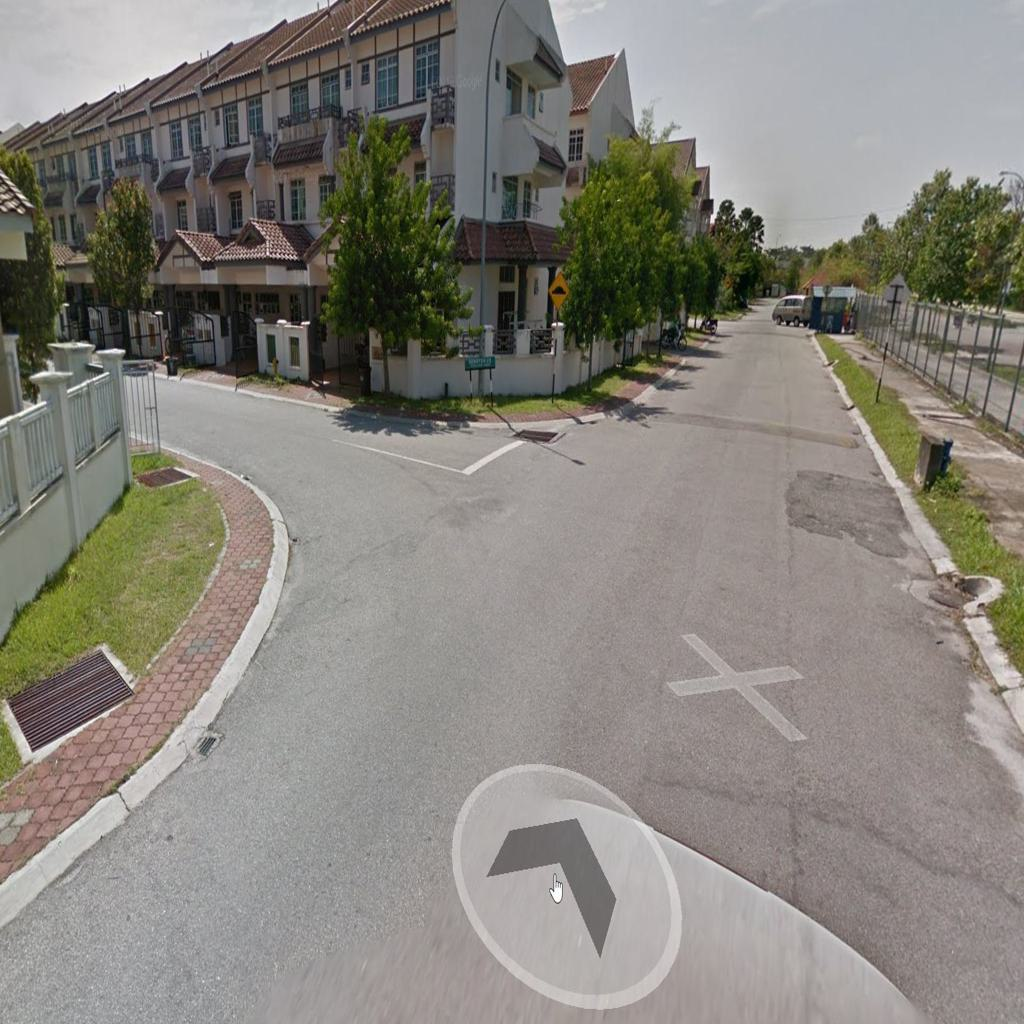Junction: (208, 380, 589, 642)
